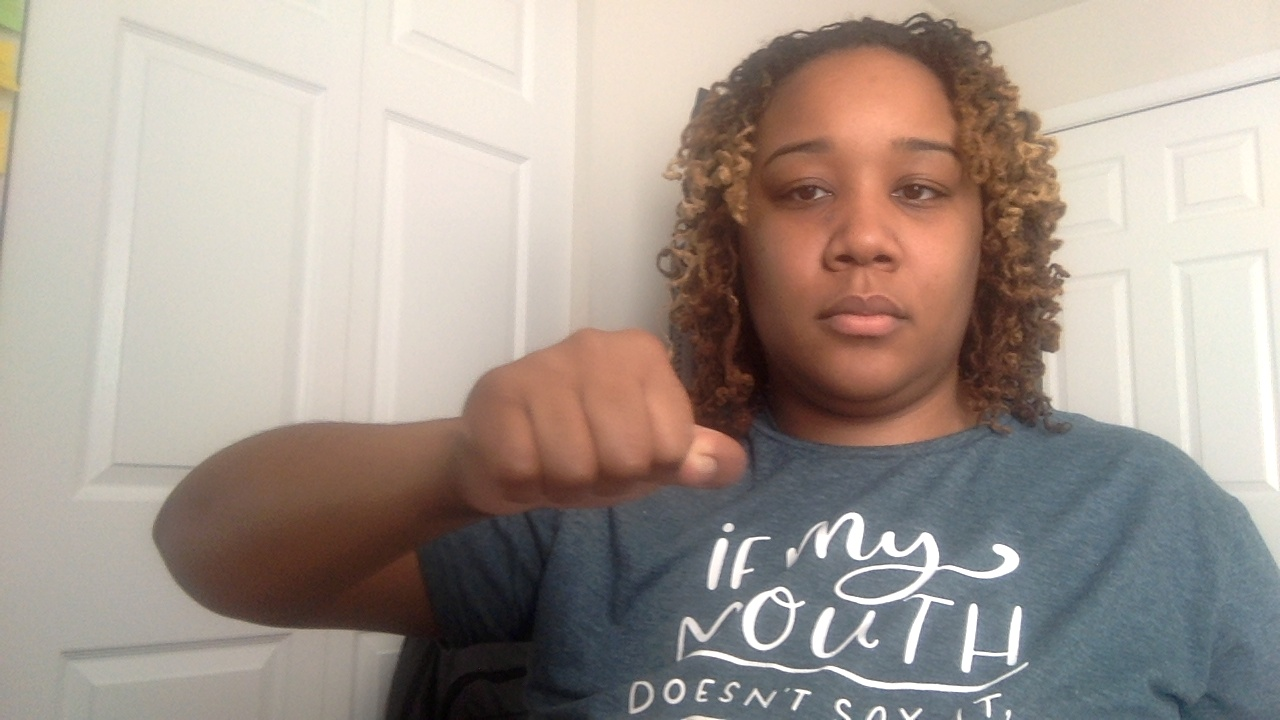yes: (435, 301, 759, 564)
